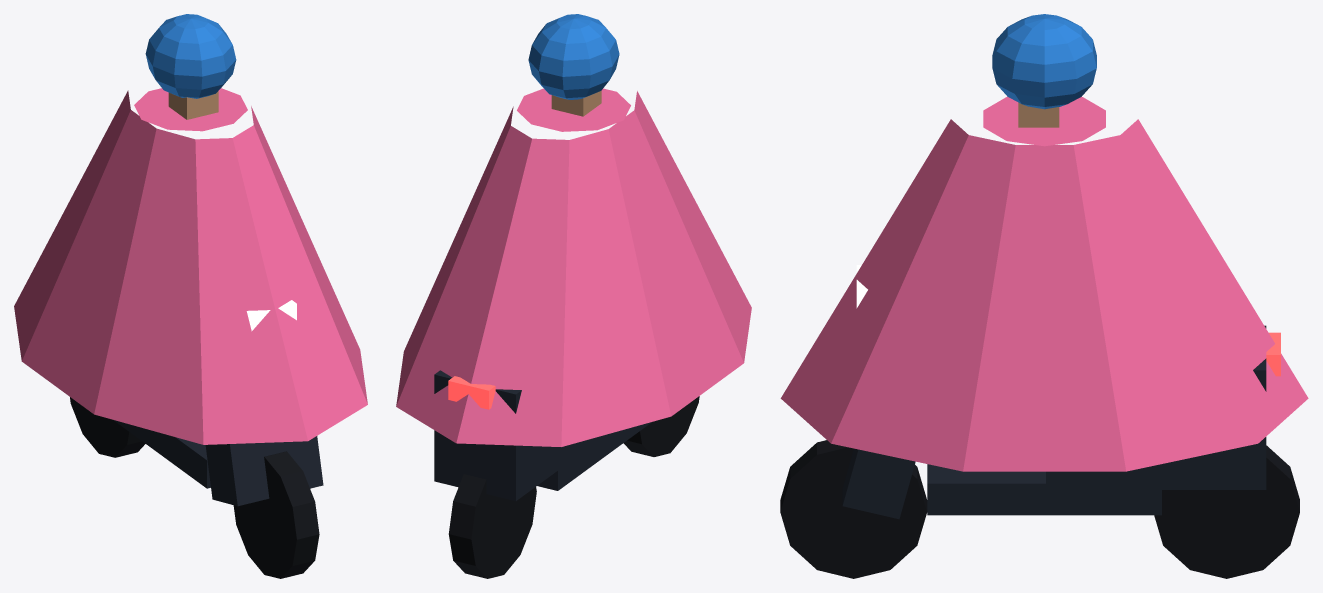
The model's file is poncho_rider_pink.glb.
3 views of the same model, side by side, from view 1: azimuth 30°, elevation 25°; view 2: azimuth 150°, elevation 25°; view 3: azimuth 270°, elevation 25° (orthographic). The views are drawn at different scales.
Visible parts, largest first — view 1: poncho_rider; view 2: poncho_rider; view 3: poncho_rider.
Part boxes in pixels (<box>): poncho_rider: <box>14,14,367,578</box>; poncho_rider: <box>396,14,751,578</box>; poncho_rider: <box>780,14,1308,578</box>.
Size of the model in its own units: 1.18 by 2.08 by 1.8.
